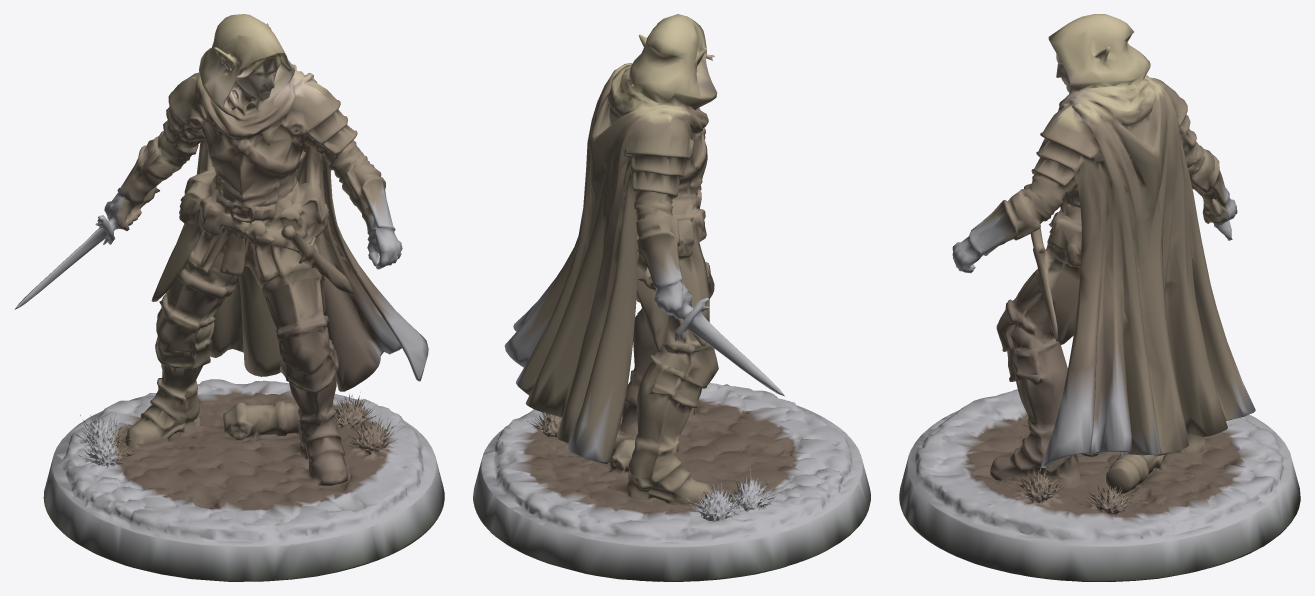
The model's file is pg_eowyn.glb.
3 renders of one model, left to right at view 1: azimuth 30°, elevation 25°; view 2: azimuth 150°, elevation 25°; view 3: azimuth 270°, elevation 25°, orthographic.
Visible parts, largest first — view 1: party_187.stl; view 2: party_187.stl; view 3: party_187.stl.
Boxes of the visible parts, x1,y1,x2,y2 form: party_187.stl: (14,14,444,581); party_187.stl: (473,14,870,581); party_187.stl: (899,14,1300,581).
Size of the model in its own units: 0.7535 by 1 by 0.7538.
